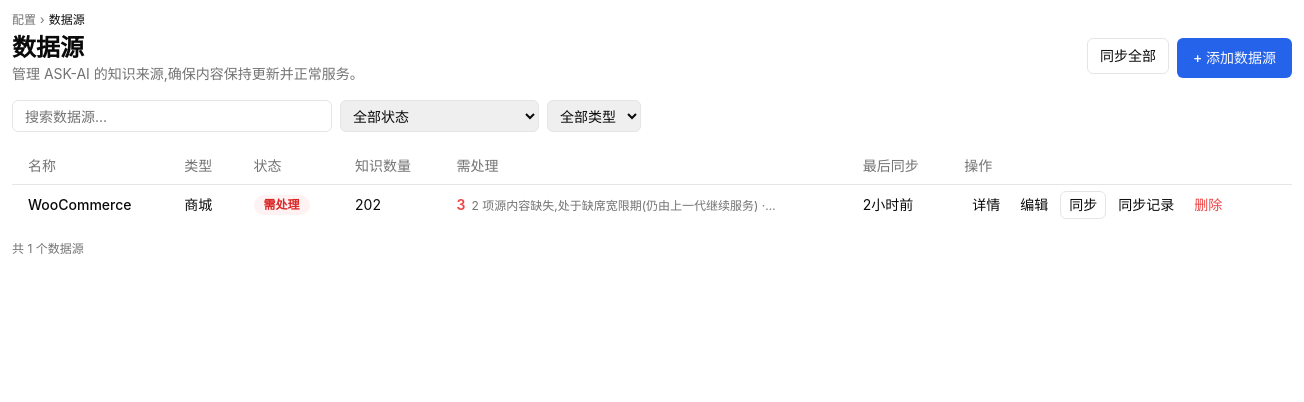
Test case: v1.6.3 Design Remediation A 类呈现(数据源列表) › #66/#86:列表展开只显示最近三次轻量同步记录,不复制详情健康诊断
What coordinates should you click on to do the following:
click the button "同步记录"
I would click on:
 (1146, 204)
Its box is [1110, 190, 1182, 218].
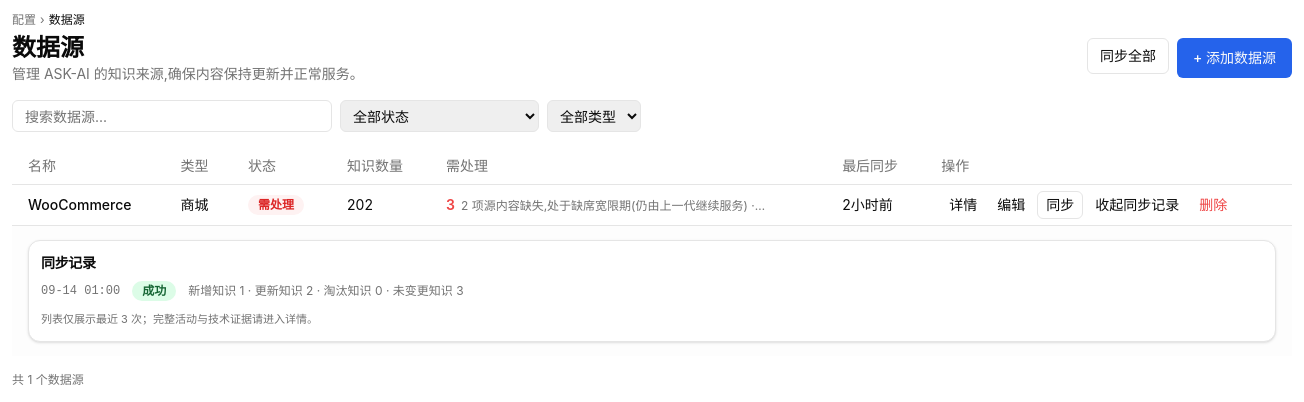
Result: the heading "同步记录" is shown at [41, 254, 96, 270]
Result: the text "新增知识 1 · 更新知识 2 · 淘汰知识 0 · 未变更知识 3" is shown at [188, 282, 464, 298]
